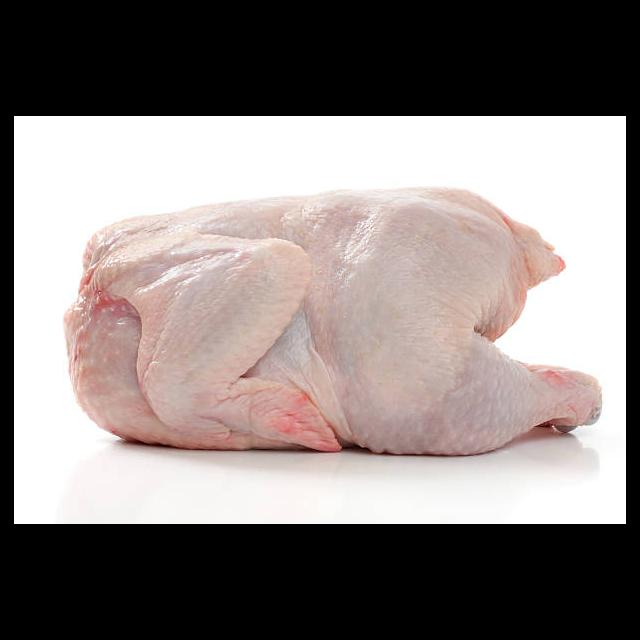chicken: (60, 186, 604, 460)
